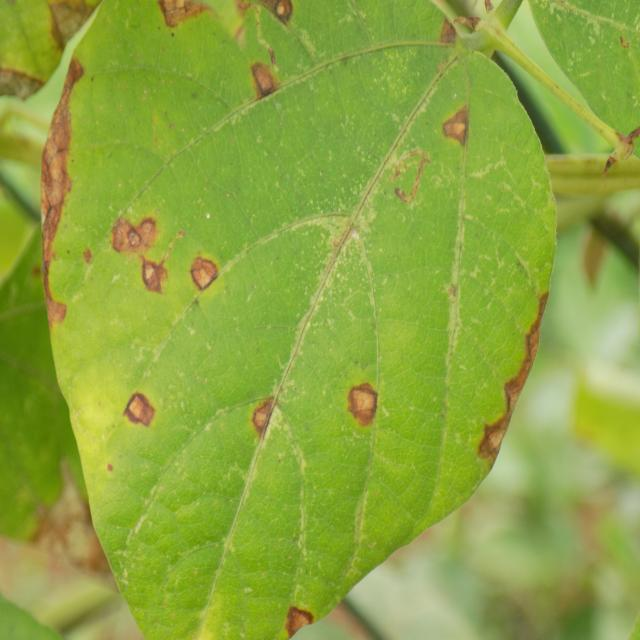Dolicos bean_cercospora leaf spot: (39, 0, 558, 640)
